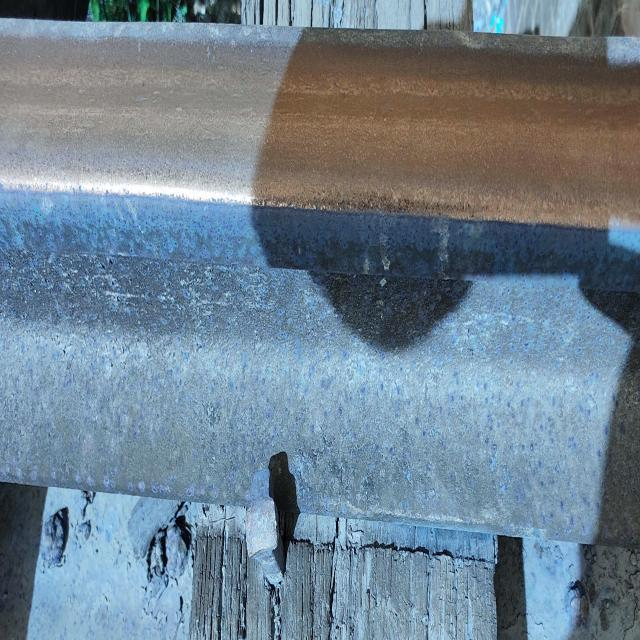Good Fasteners: (246, 469, 285, 590)
